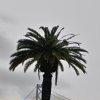Tree: (10, 11, 86, 98)
